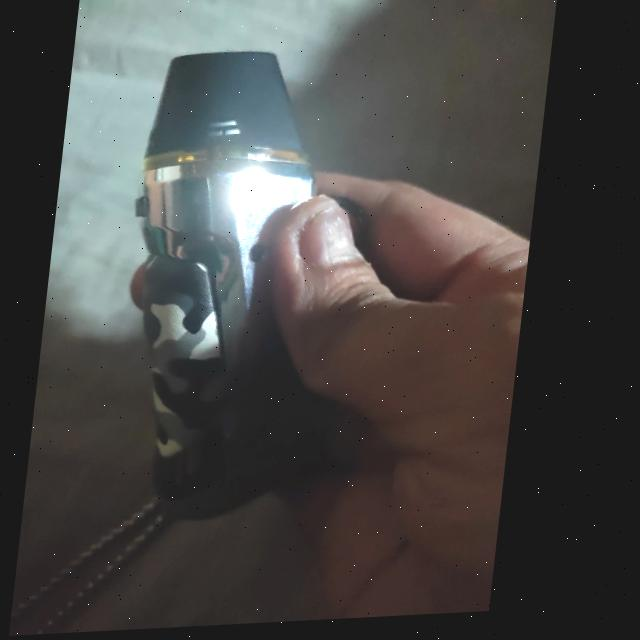vape: (110, 46, 370, 523)
